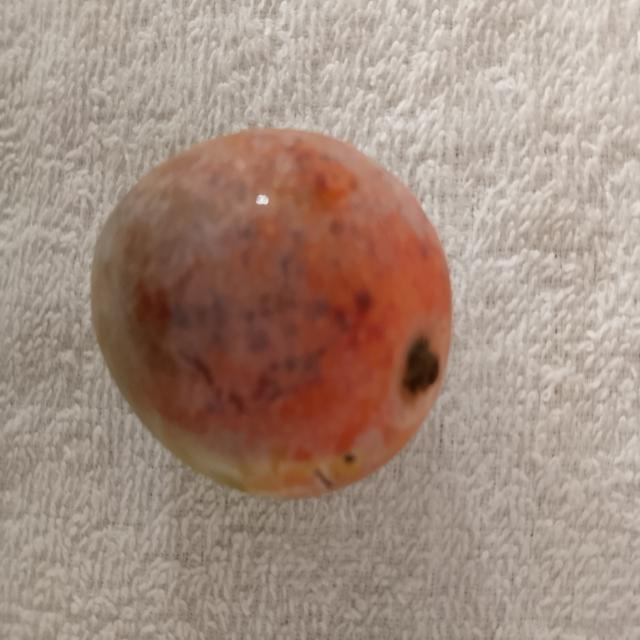mango: (85, 124, 455, 504)
